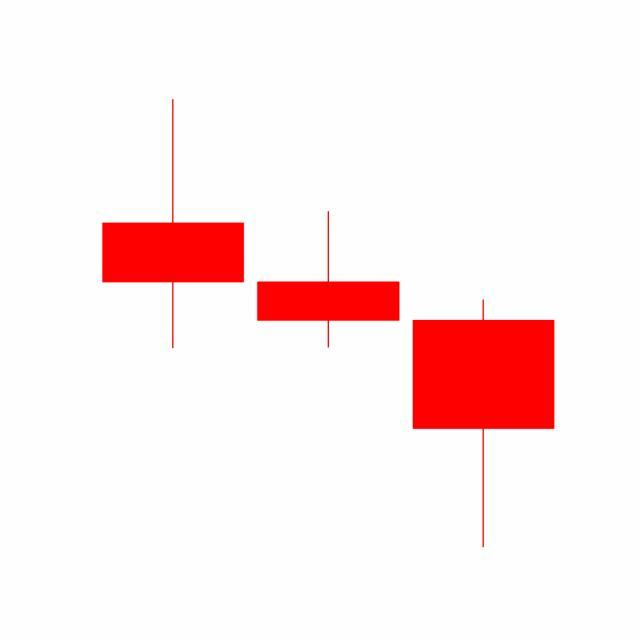Gravestone Doji: (250, 210, 407, 351)
